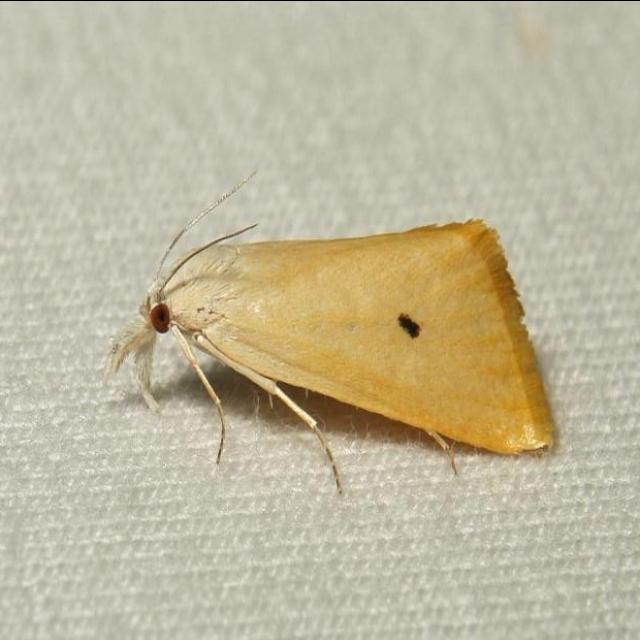stem borer: (105, 220, 553, 472)
